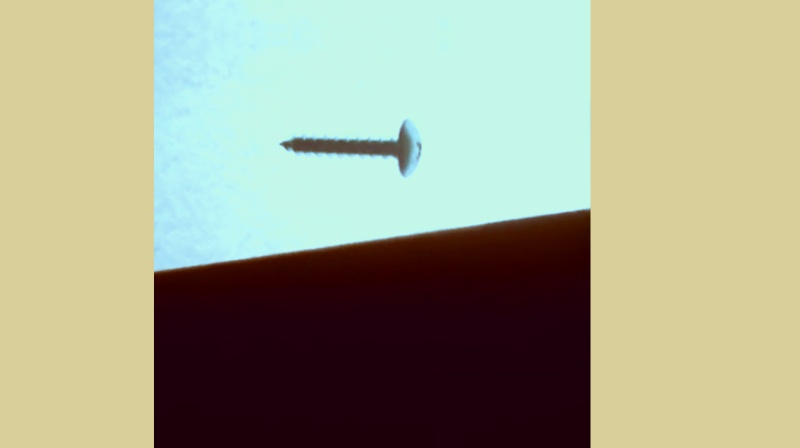S003: (276, 114, 428, 181)
